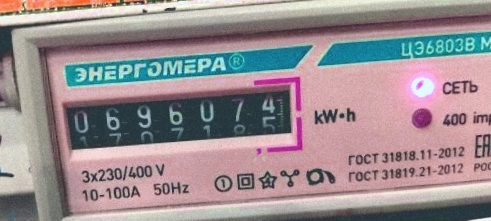0: (70, 107, 90, 133), (196, 96, 215, 123)
4: (258, 90, 275, 113)
5: (260, 113, 277, 134)
6: (164, 98, 184, 126), (102, 104, 121, 130)
7: (228, 94, 246, 122)
9: (133, 101, 151, 128)
screen: (50, 72, 308, 170)
